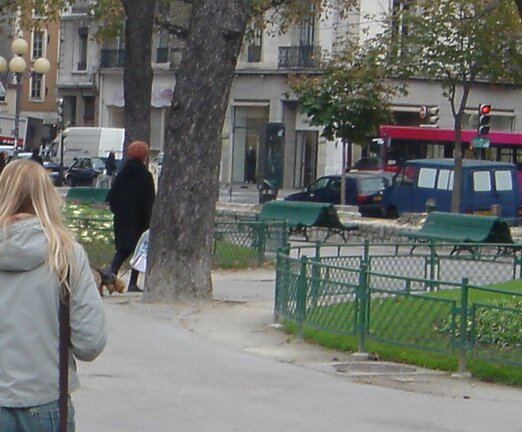person: (1, 157, 104, 426), (99, 137, 159, 294)
